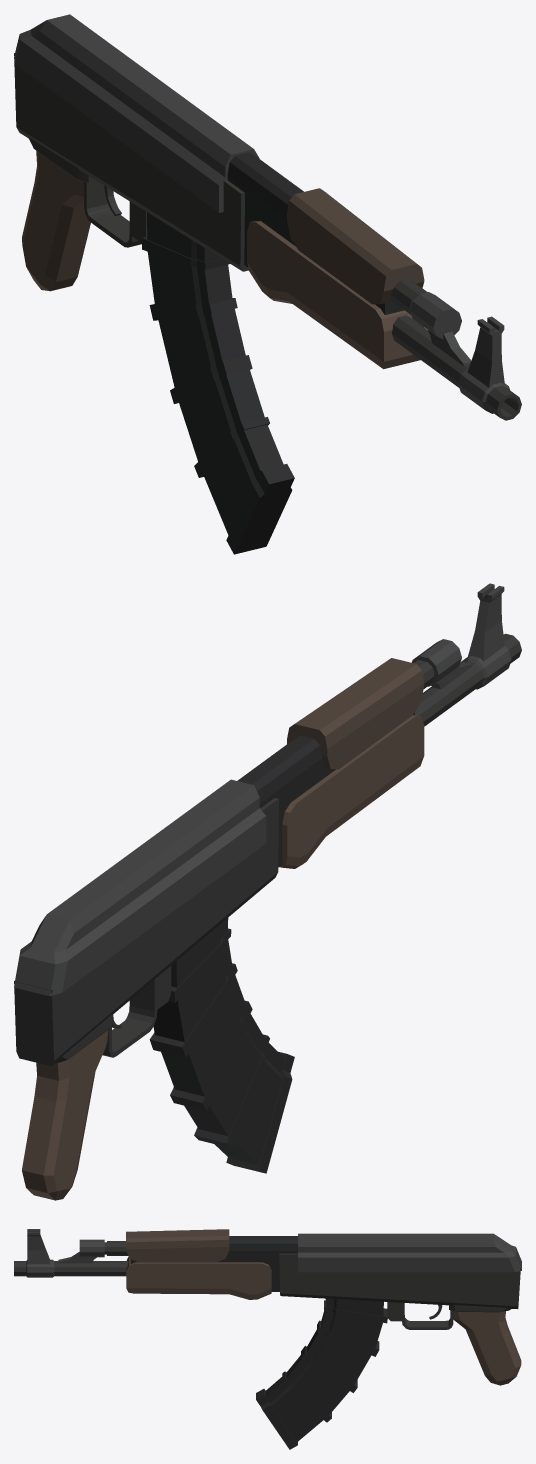
The model's file is rifle.glb.
3 views of the same model, one above another, from view 1: azimuth 30°, elevation 25°; view 2: azimuth 150°, elevation 25°; view 3: azimuth 270°, elevation 25° (orthographic). The views are drawn at different scales.
Visible parts, largest first — view 1: AssaultRifle_3_Cube.138; view 2: AssaultRifle_3_Cube.138; view 3: AssaultRifle_3_Cube.138.
Boxes of the visible parts, bbox=[...] form: AssaultRifle_3_Cube.138: bbox=[14, 14, 521, 554]; AssaultRifle_3_Cube.138: bbox=[14, 583, 521, 1200]; AssaultRifle_3_Cube.138: bbox=[14, 1229, 521, 1449].
Bounding box in the file's own units: 0.1228 × 1 × 2.15.
